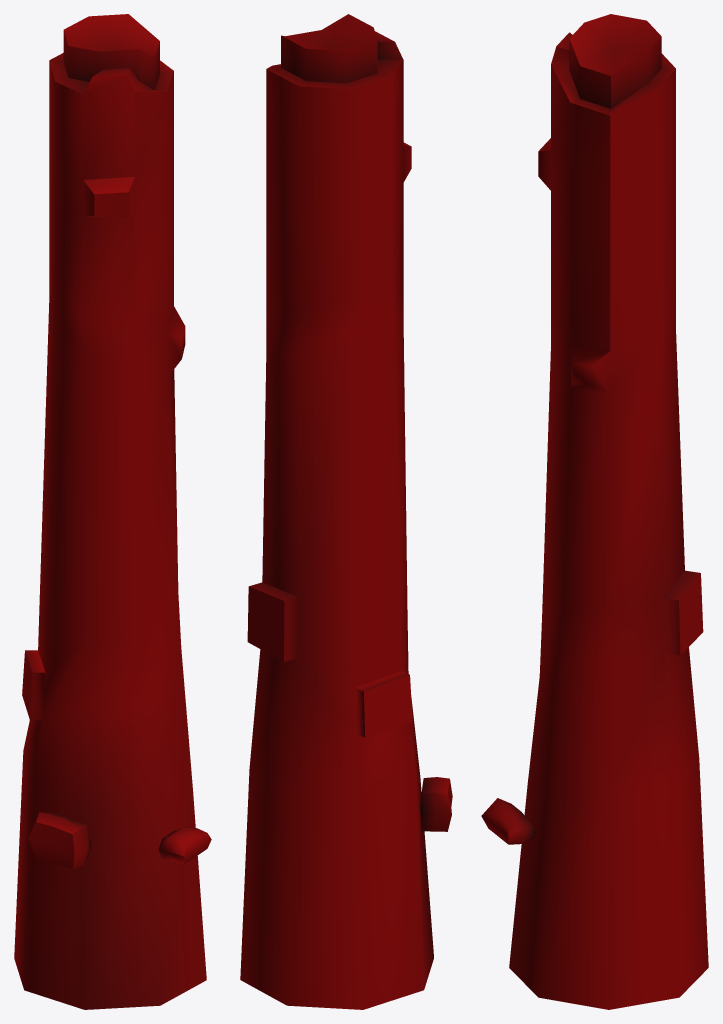
The model's file is buildings-ruins-cathedralruins_v14.fbx.
The picture shows the model from 3 angles, left to right: view 1: azimuth 30°, elevation 25°; view 2: azimuth 150°, elevation 25°; view 3: azimuth 270°, elevation 25°; orthographic projection.
Visible parts, largest first — view 1: CathedralRuins_v14; view 2: CathedralRuins_v14; view 3: CathedralRuins_v14.
Part boxes in pixels (box(x1,y1,x2,y2)): CathedralRuins_v14: box(14, 14, 211, 1009); CathedralRuins_v14: box(240, 14, 452, 1009); CathedralRuins_v14: box(481, 14, 708, 1009).
Size of the model in its own units: 2.16 by 10.45 by 2.31.
